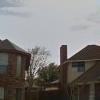Chimney: (56, 39, 74, 65)
